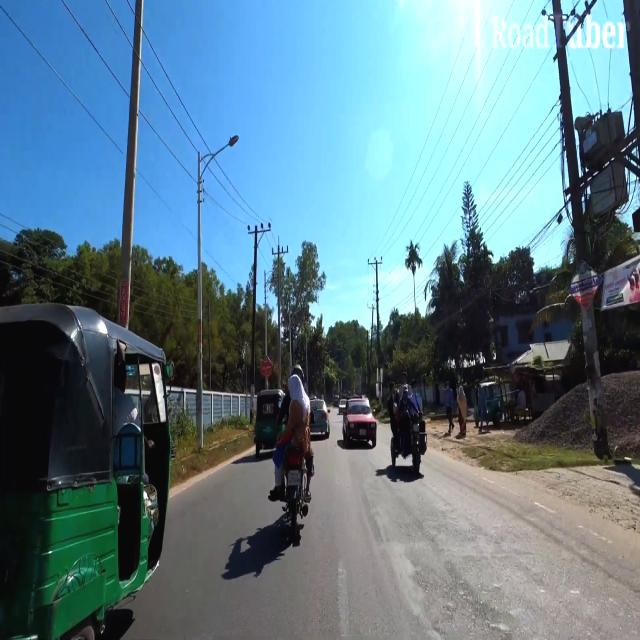red: (346, 400, 378, 444)
